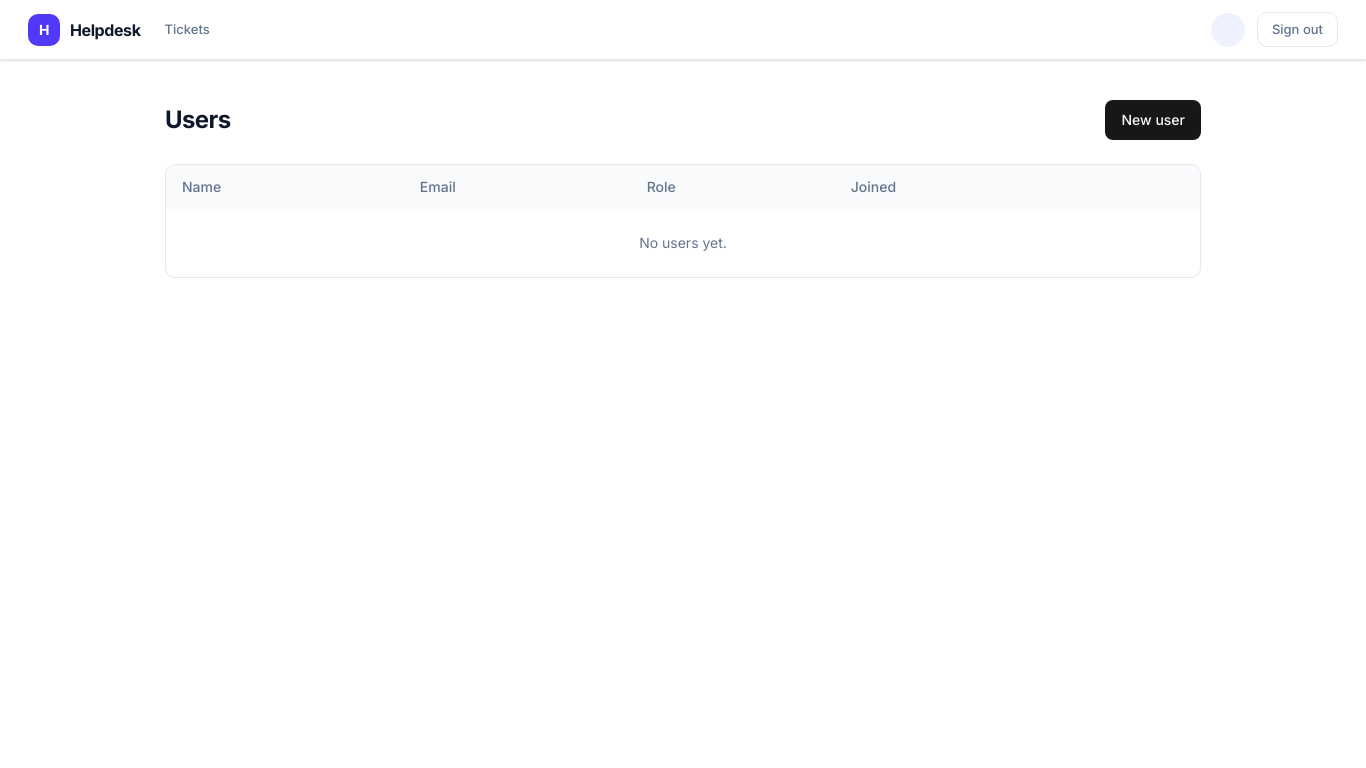
Test case: UsersPage › shows the create-user dialog when New user is clicked
Expected: the text "No users yet." is shown, [639,234,727,251]
Click the button "New user" at (1153, 120), box [1106,100,1201,140]
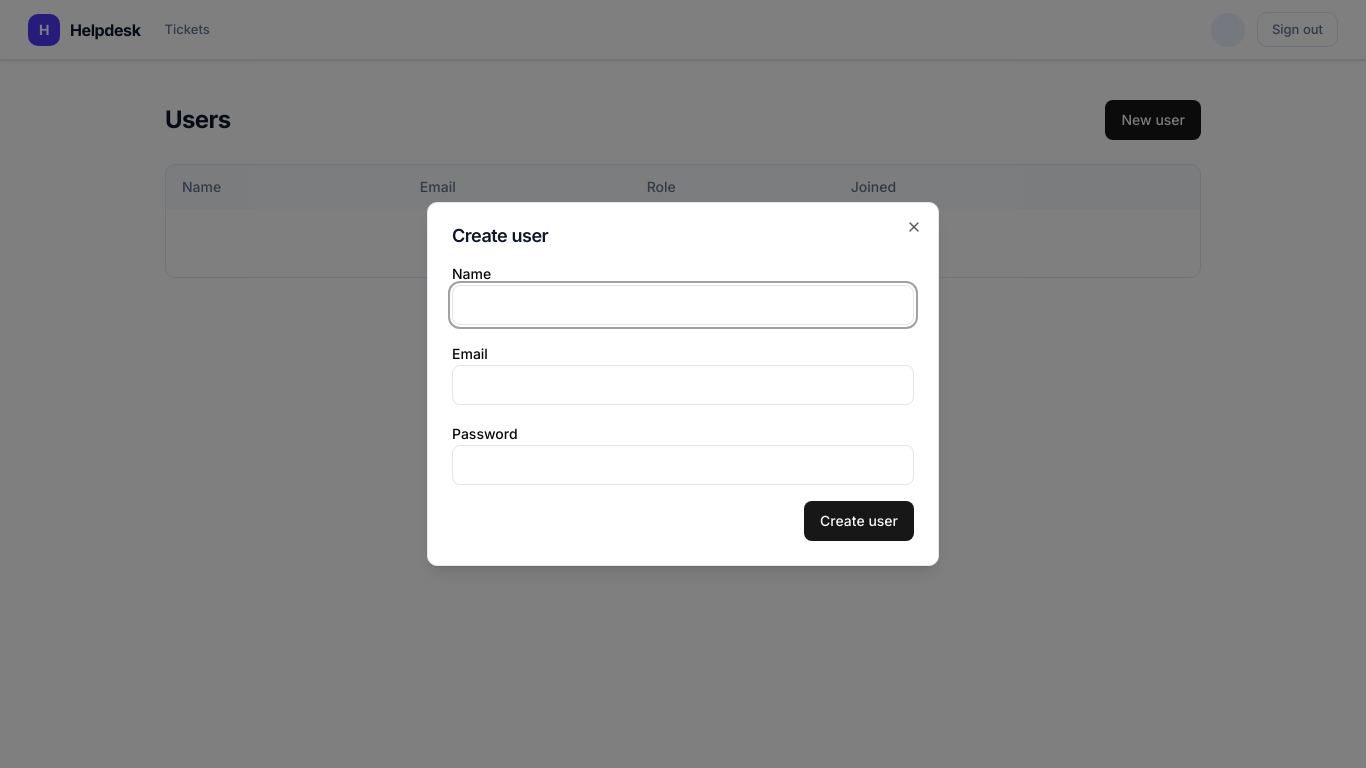
Expected: the dialog is shown, [427,202,939,566]
Expected: the heading "Create user" is shown, [452,225,548,246]
